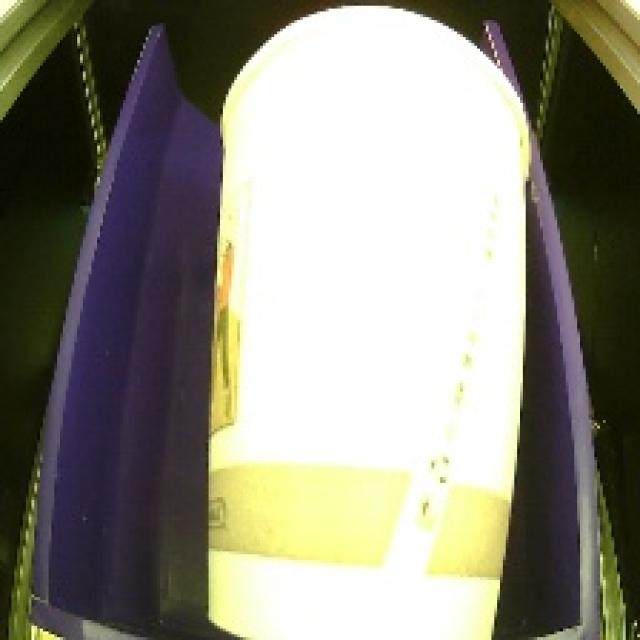cups: (188, 0, 547, 640)
